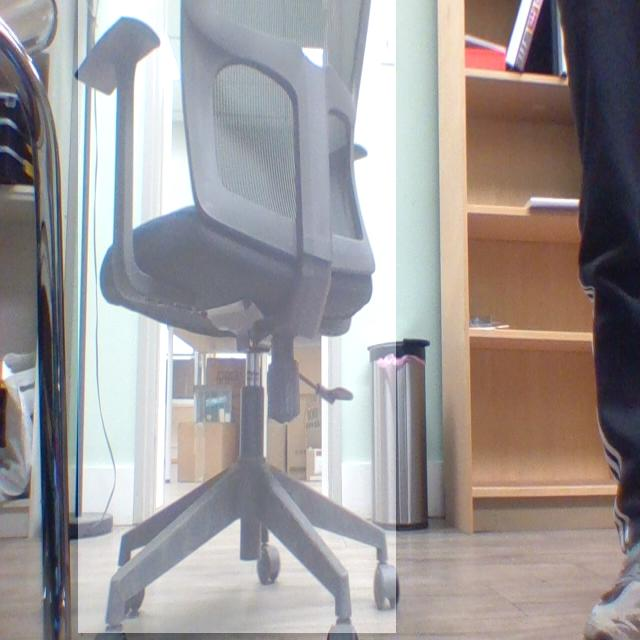black-chair: (78, 0, 397, 634)
